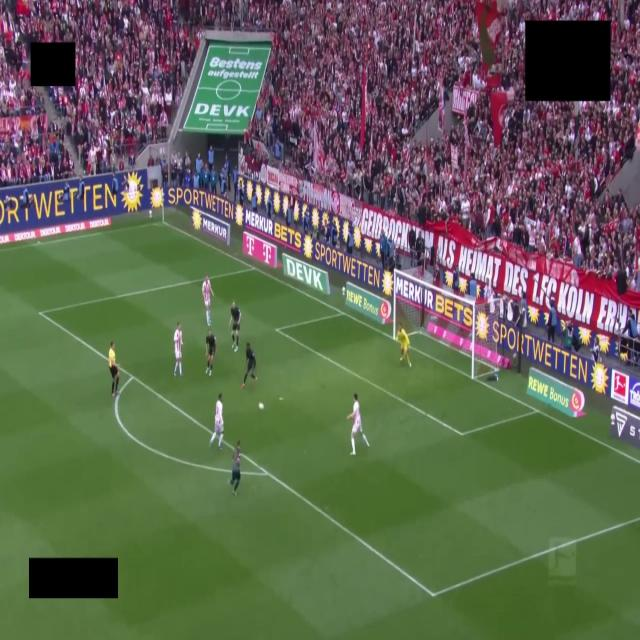ball: (258, 403, 264, 409)
player: (347, 393, 369, 455), (209, 394, 223, 449), (242, 343, 257, 388), (397, 324, 411, 367), (230, 301, 241, 351), (202, 276, 212, 326), (206, 330, 216, 375), (174, 322, 182, 375), (230, 453, 240, 495), (235, 440, 240, 455)
referee: (108, 342, 119, 397)
